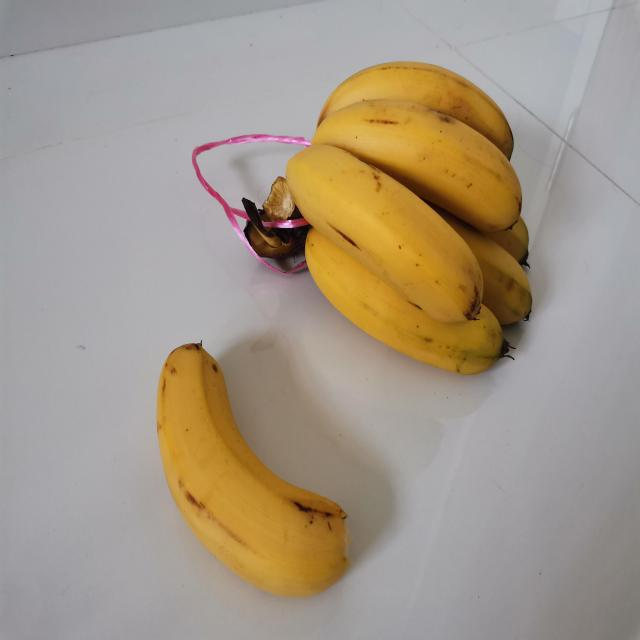Banana: (242, 59, 540, 382), (152, 337, 355, 615)
